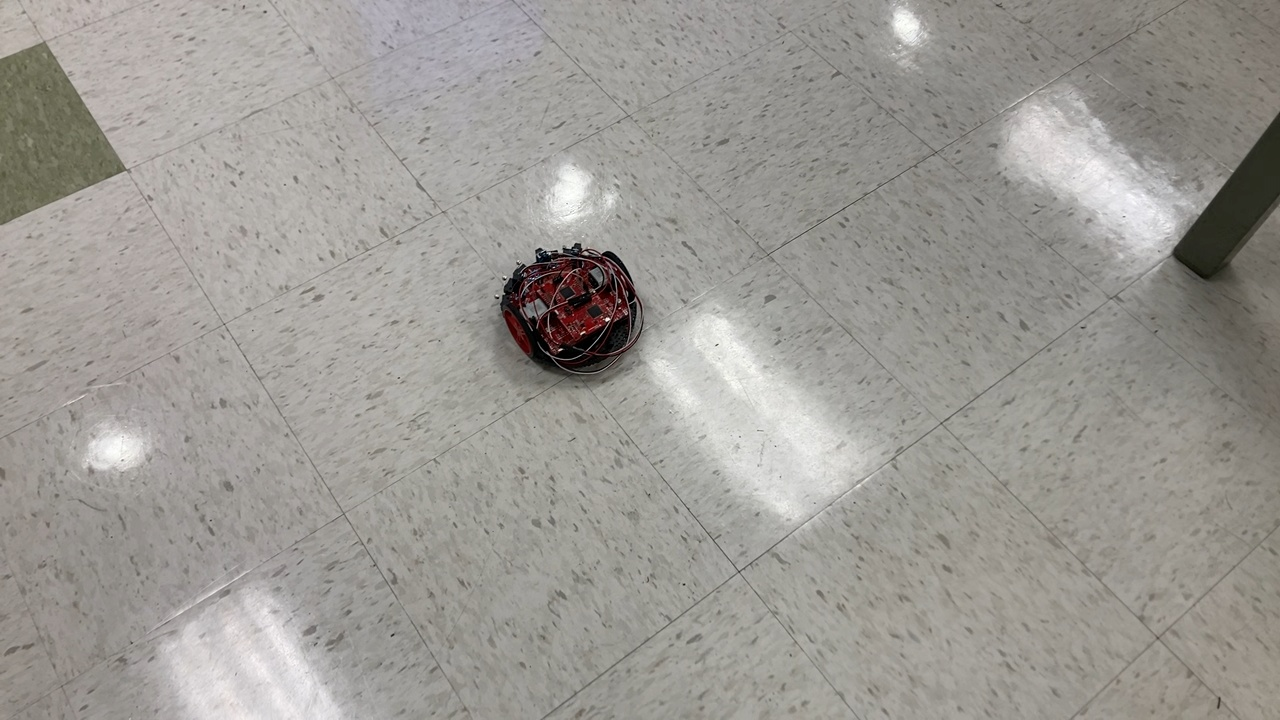robot: (492, 242, 650, 381)
